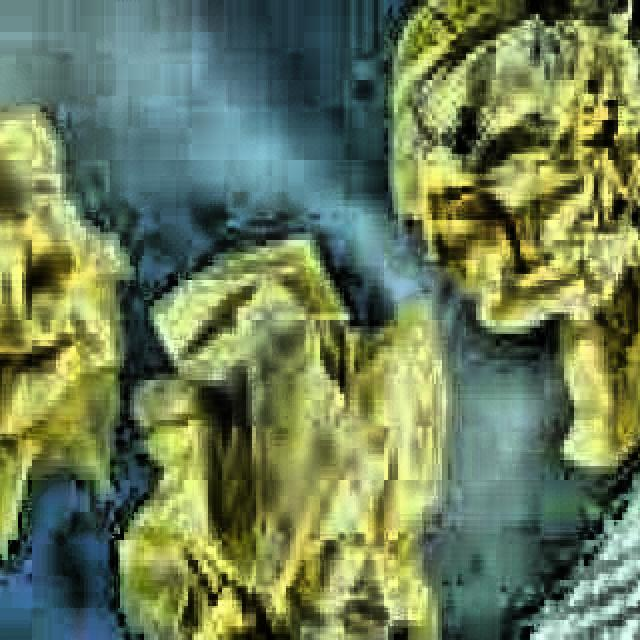paper: (100, 220, 448, 640), (384, 0, 640, 468), (0, 34, 126, 560)
